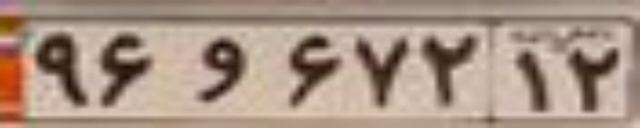1: (510, 49, 553, 112)
2: (566, 45, 624, 113), (421, 33, 474, 105)
6: (96, 32, 157, 105), (285, 32, 341, 107)
7: (353, 35, 413, 108)
9: (32, 30, 88, 107)
vav: (187, 38, 248, 102)
